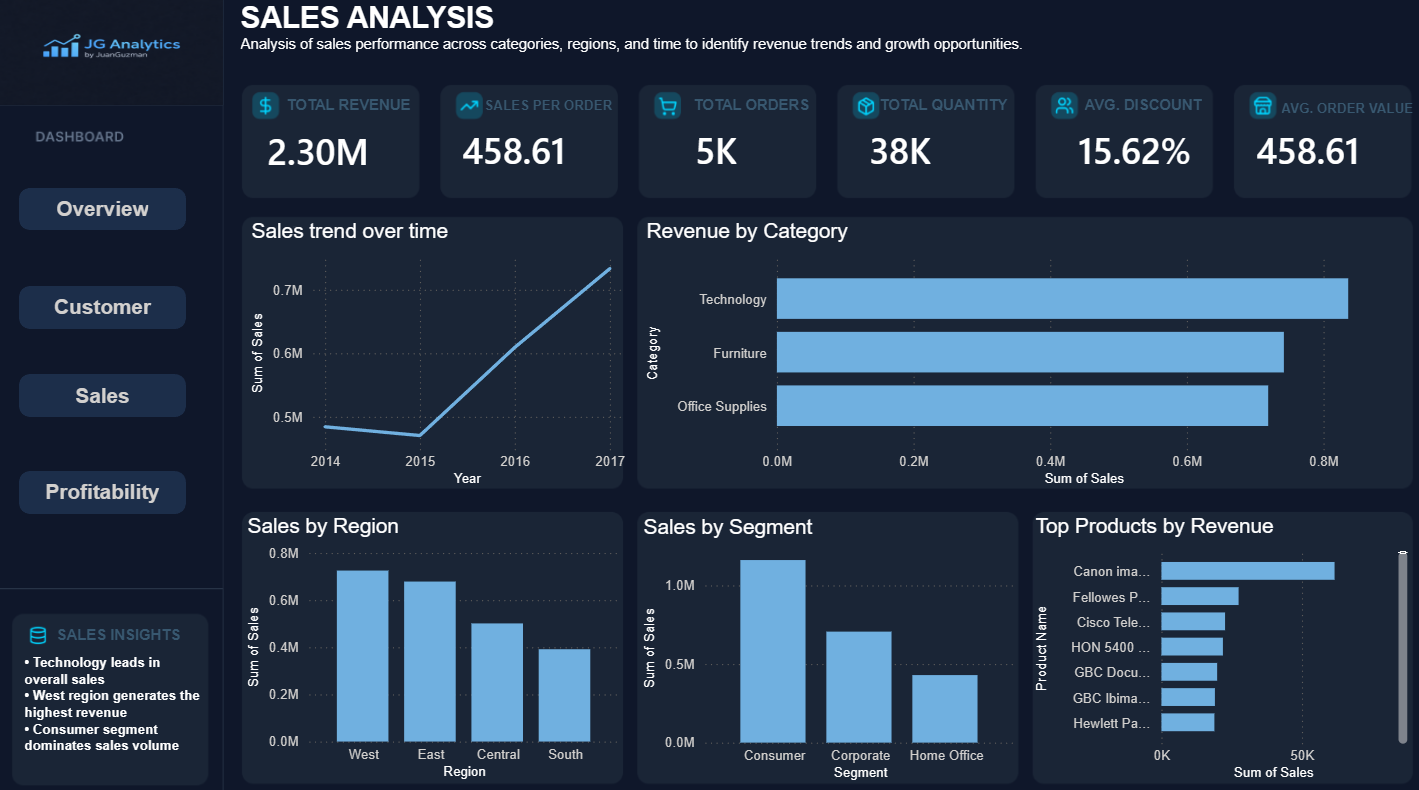

What the dashboard file says about the page in this screenshot:
{"tool":"powerbi","page":{"name":"Sales Analysis","canvas":[1280,720],"ordinal":2},"visuals":[{"type":"group","id":"g1","title":"Group 1","box":[18,172.4,149.9,38.6],"z":0},{"type":"shape","box":[18,172.4,149.9,37.7],"z":1000,"group":"g1"},{"type":"group","id":"g2","title":"Group 2","box":[18,260.3,149.9,38.6],"z":1000},{"type":"actionButton","title":"PROFITABILITY","box":[18,172.4,149.9,38.6],"z":2000,"group":"g1"},{"type":"group","id":"g3","title":"Group 3","box":[18,339.4,149.9,39.5],"z":2000},{"type":"shape","box":[18,260.3,149.9,38.6],"z":3000,"group":"g2"},{"type":"group","id":"g4","title":"Group 4","box":[18,426.4,149.9,38.6],"z":3000},{"type":"image","box":[0,0,201.3,98.2],"z":4000},{"type":"shape","box":[18,339.4,149.9,38.6],"z":4000,"group":"g3"},{"type":"textbox","box":[211.9,0,728.1,77.2],"z":5000},{"type":"shape","box":[18,426.4,149.9,38.6],"z":5000,"group":"g4"},{"type":"cardVisual","fields":{"Data":["Superstore sales dataset.Total Revenue"]},"box":[211.7,85.3,202.2,102.5],"z":6000},{"type":"actionButton","title":"PROFITABILITY","box":[18,260.3,149.9,38.6],"z":6000,"group":"g2"},{"type":"textbox","box":[252.9,85.3,133.2,25.9],"z":7000},{"type":"actionButton","title":"PROFITABILITY","box":[18,340.3,149.9,38.6],"z":7000,"group":"g3"},{"type":"cardVisual","fields":{"Data":["Superstore sales dataset.Total Orders"]},"box":[595.9,88.1,180.1,97.7],"z":8000},{"type":"actionButton","title":"PROFITABILITY","box":[18,426.4,149.9,38.6],"z":8000,"group":"g4"},{"type":"textbox","box":[618.9,85.3,133.2,25.9],"z":9000},{"type":"cardVisual","fields":{"Data":["Superstore sales dataset.Total Quantity"]},"box":[752.1,88.1,180.1,97.7],"z":10000},{"type":"textbox","box":[785.5,85.3,138.3,26],"z":11000},{"type":"cardVisual","fields":{"Data":["Superstore sales dataset.Avg Order Value"]},"box":[1099.9,88.1,180.1,97.7],"z":12000},{"type":"textbox","box":[1146.4,88,133.8,26],"z":13000},{"type":"cardVisual","fields":{"Data":["Superstore sales dataset.Average Discount"]},"box":[939.9,88.2,180.1,97.7],"z":13000,"group":"g5"},{"type":"group","id":"g5","title":"Group 5","box":[939.9,85.3,180.1,100.6],"z":14000},{"type":"textbox","box":[969.6,85.3,133.2,25.9],"z":14000,"group":"g5"},{"type":"cardVisual","fields":{"Data":["Superstore sales dataset.Sales per Order"]},"box":[387.1,88.1,180.1,97.7],"z":15000},{"type":"textbox","box":[430.9,85.3,151.7,26],"z":16000},{"type":"lineChart","title":"Sales trend over time","fields":{"Y":["Sum(Superstore sales dataset.Sales)"],"Category":["Superstore sales dataset.Order Date.Variation.Date Hierarchy.Year","Superstore sales dataset.Order Date.Variation.Date Hierarchy.Month"]},"box":[221.7,200.2,345.6,245.1],"z":17000},{"type":"barChart","title":"Revenue by category","fields":{"Category":["Superstore sales dataset.Category"],"Y":["Sum(Superstore sales dataset.Sales)"]},"box":[576.4,200.2,693.1,245.1],"z":18000},{"type":"columnChart","title":"Sales by region","fields":{"Category":["Superstore sales dataset.Region"],"Y":["Sum(Superstore sales dataset.Sales)"]},"box":[218.2,465,343.8,243.3],"z":19000},{"type":"columnChart","title":"Sales by segment","fields":{"Category":["Superstore sales dataset.Segment"],"Y":["Sum(Superstore sales dataset.Sales)"]},"box":[573.9,465.6,344,243.4],"z":20000},{"type":"barChart","title":"Top products by revenue","fields":{"Category":["Superstore sales dataset.Product Name"],"Y":["Sum(Superstore sales dataset.Sales)"]},"box":[925.6,465,343.8,244.2],"z":21000},{"type":"textbox","box":[46.9,561.4,133.2,25.9],"z":22000},{"type":"textbox","box":[18,585.3,167.9,123.9],"z":23000}]}

Visuals, with their boxes in screenshot pixels (x1, y1, x2, y2), scaled from the page's 1280x720 canvas onto the 1419x790 screenshot:
"Group 1" group: bbox=(20, 189, 186, 232)
shape: bbox=(20, 189, 186, 231)
"Group 2" group: bbox=(20, 286, 186, 328)
"PROFITABILITY" actionButton: bbox=(20, 189, 186, 232)
"Group 3" group: bbox=(20, 372, 186, 416)
shape: bbox=(20, 286, 186, 328)
"Group 4" group: bbox=(20, 468, 186, 510)
image: bbox=(0, 0, 223, 108)
shape: bbox=(20, 372, 186, 415)
textbox: bbox=(235, 0, 1042, 85)
shape: bbox=(20, 468, 186, 510)
cardVisual - Superstore sales dataset.Total Revenue: bbox=(235, 94, 459, 206)
"PROFITABILITY" actionButton: bbox=(20, 286, 186, 328)
textbox: bbox=(280, 94, 428, 122)
"PROFITABILITY" actionButton: bbox=(20, 373, 186, 416)
cardVisual - Superstore sales dataset.Total Orders: bbox=(661, 97, 860, 204)
"PROFITABILITY" actionButton: bbox=(20, 468, 186, 510)
textbox: bbox=(686, 94, 834, 122)
cardVisual - Superstore sales dataset.Total Quantity: bbox=(834, 97, 1033, 204)
textbox: bbox=(871, 94, 1024, 122)
cardVisual - Superstore sales dataset.Avg Order Value: bbox=(1219, 97, 1418, 204)
textbox: bbox=(1271, 97, 1418, 125)
cardVisual - Superstore sales dataset.Average Discount: bbox=(1042, 97, 1242, 204)
"Group 5" group: bbox=(1042, 94, 1242, 204)
textbox: bbox=(1075, 94, 1223, 122)
cardVisual - Superstore sales dataset.Sales per Order: bbox=(429, 97, 629, 204)
textbox: bbox=(478, 94, 646, 122)
"Sales trend over time" lineChart: bbox=(246, 220, 629, 489)
"Revenue by category" barChart: bbox=(639, 220, 1407, 489)
"Sales by region" columnChart: bbox=(242, 510, 623, 777)
"Sales by segment" columnChart: bbox=(636, 511, 1018, 778)
"Top products by revenue" barChart: bbox=(1026, 510, 1407, 778)
textbox: bbox=(52, 616, 200, 644)
textbox: bbox=(20, 642, 206, 778)
